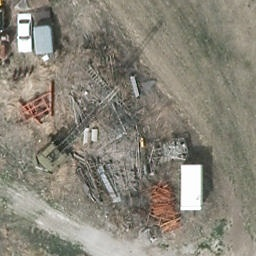camping car: (178, 164, 204, 214)
car: (17, 13, 35, 55)
